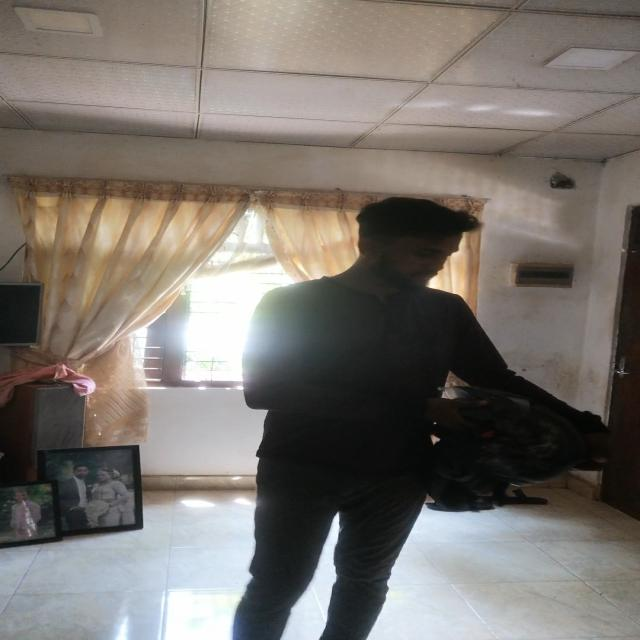Person: (209, 193, 584, 640)
